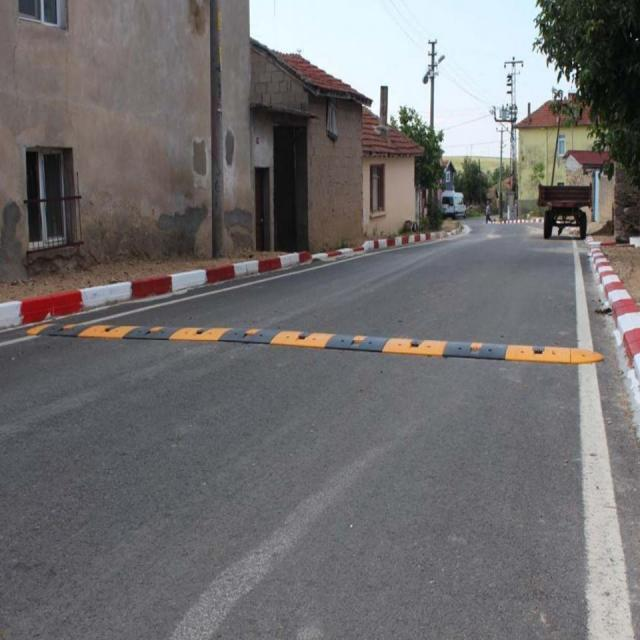Marked Bump: (76, 307, 596, 385)
